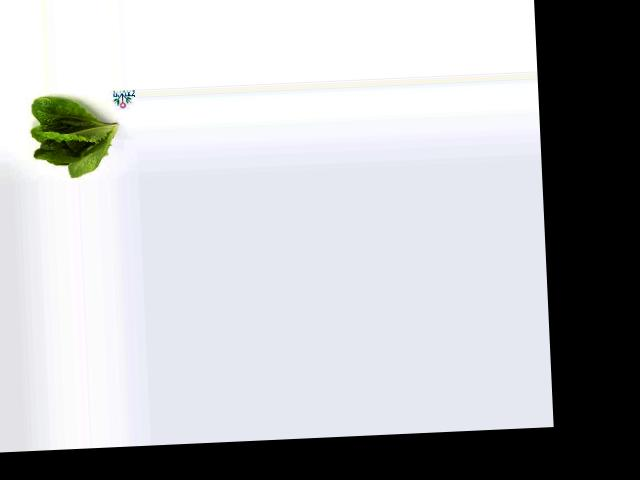lettuce: (26, 95, 121, 181)
